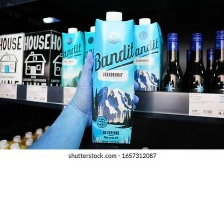bottle: (158, 30, 183, 93), (183, 30, 207, 93), (208, 27, 224, 94)
carton: (89, 9, 136, 146), (131, 17, 165, 92), (61, 26, 84, 88), (83, 24, 98, 67)
